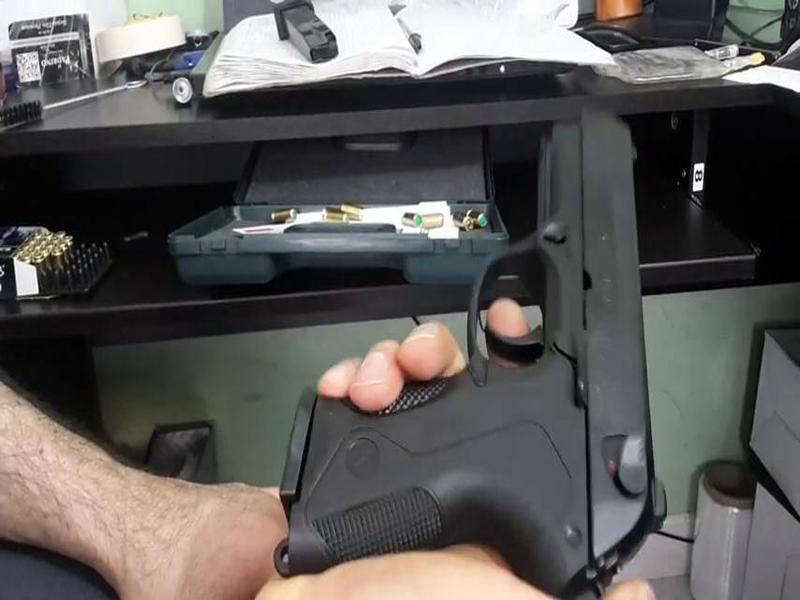Pistola: (259, 111, 675, 583)
